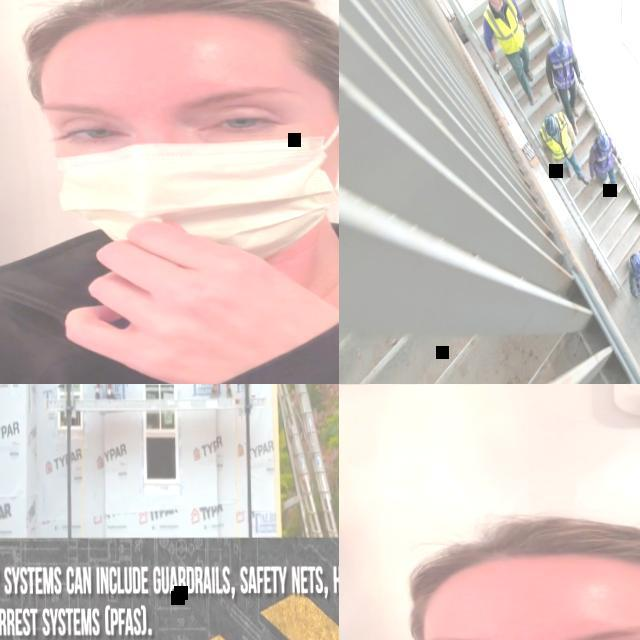helmet: (554, 38, 568, 62), (544, 112, 558, 136), (598, 132, 610, 152), (632, 253, 640, 272)
vest: (481, 0, 524, 53), (538, 110, 572, 158), (548, 42, 574, 87), (592, 134, 612, 168)
